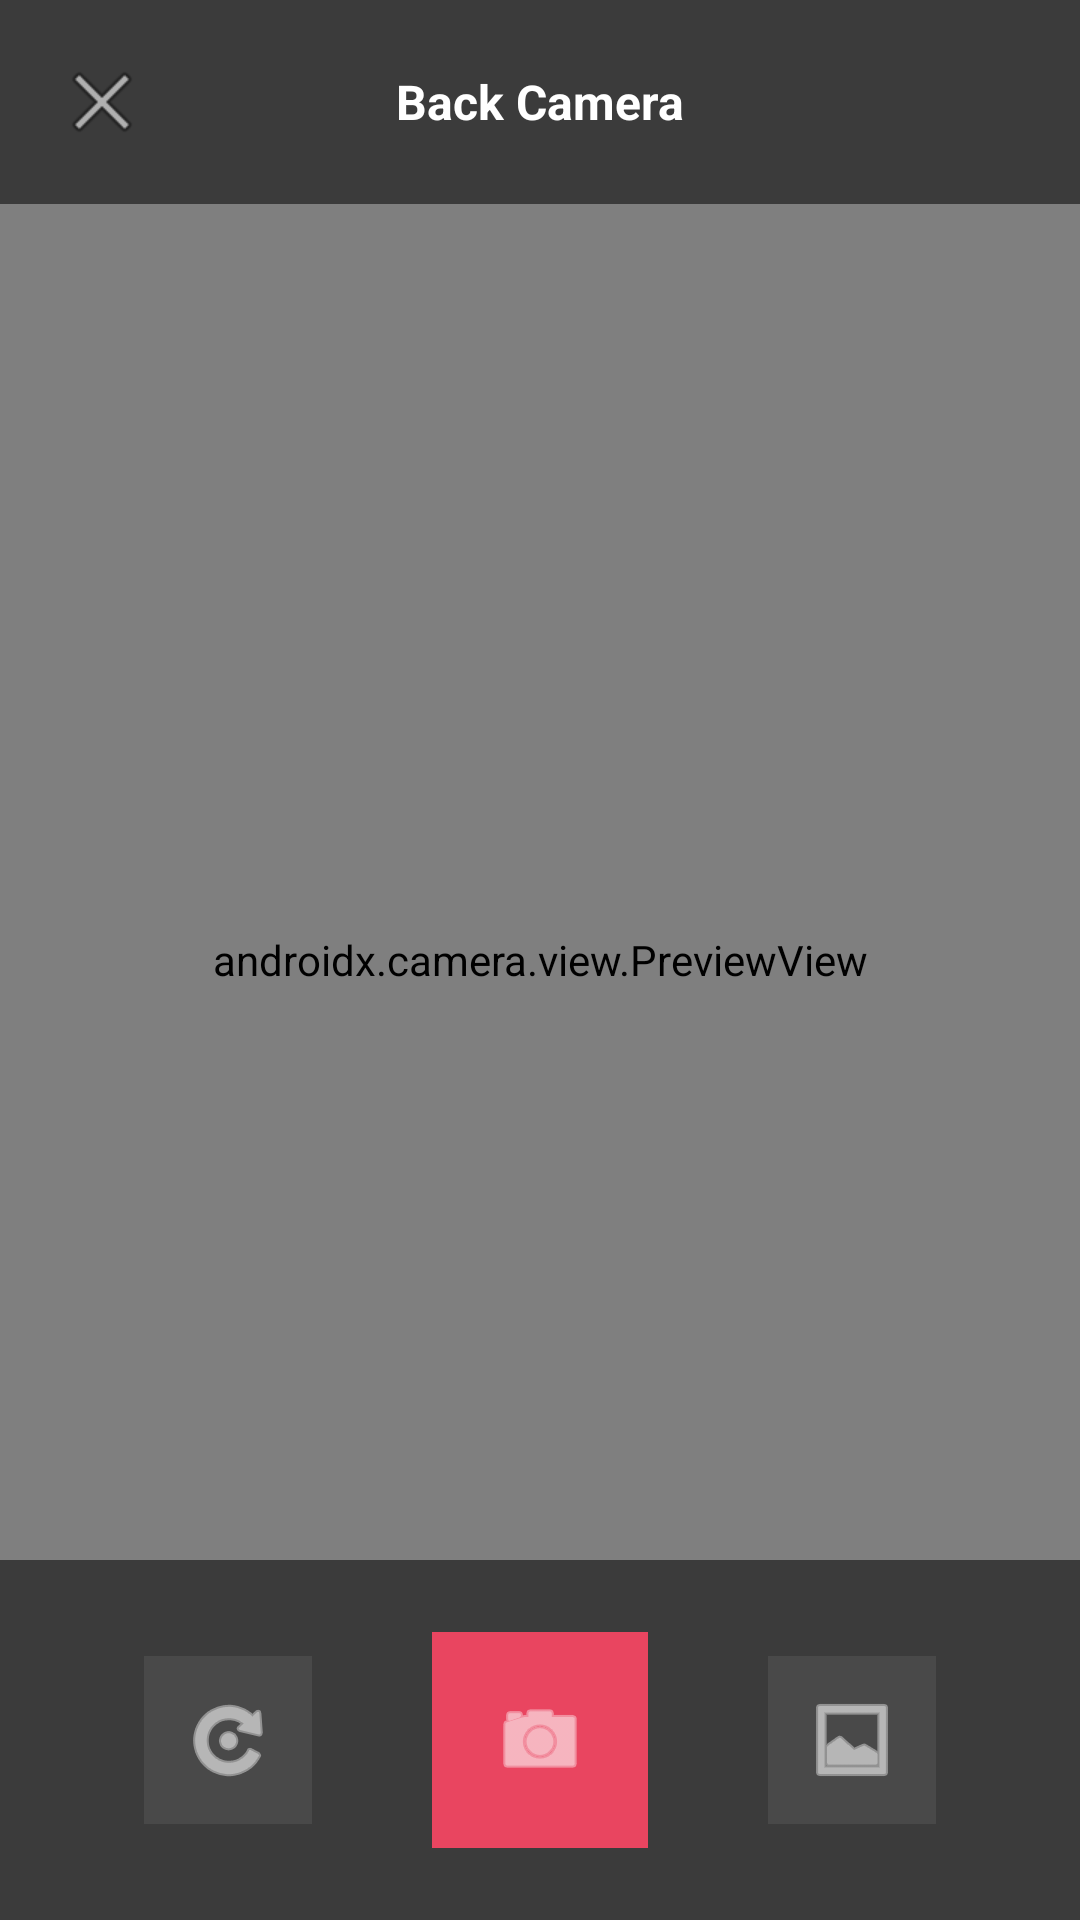

Where icons sit on this 1080px×1920px app screen, as (x1, y1, x2, y2):
Close Camera: (75, 75, 129, 129)
Flip Camera: (193, 1704, 263, 1777)
Open Gallery: (816, 1704, 888, 1776)
Take Photo: (432, 1632, 648, 1848)
